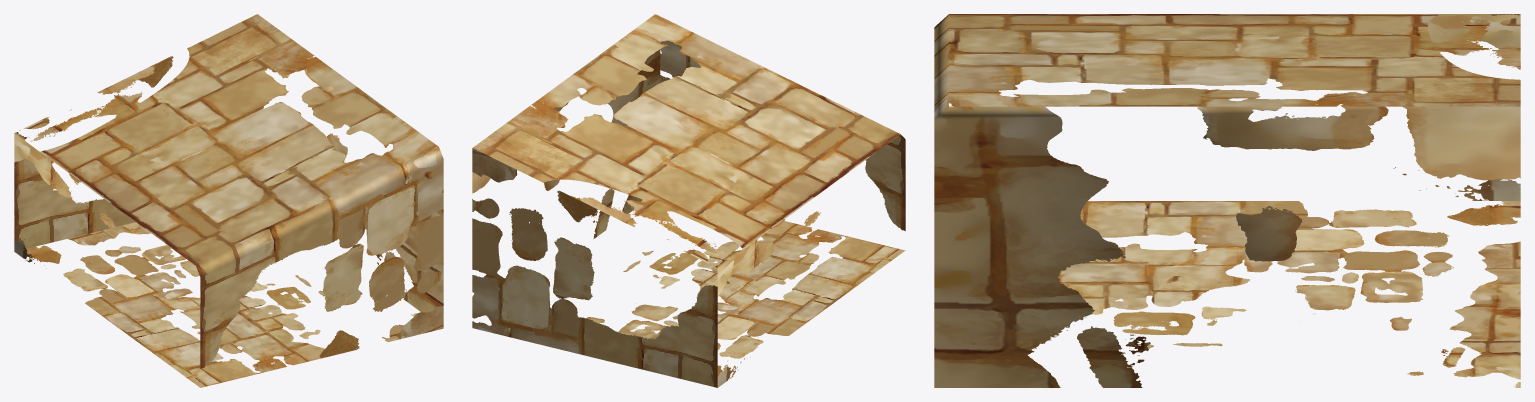
The model's file is Medium_Ground.FBX.
The picture shows the model from 3 angles, left to right: view 1: azimuth 30°, elevation 25°; view 2: azimuth 150°, elevation 25°; view 3: azimuth 270°, elevation 25°; orthographic projection. The views are drawn at different scales.
Visible parts, largest first — view 1: Sol_middle; view 2: Sol_middle; view 3: Sol_middle.
Boxes of the visible parts, left/top/right/bottom form: Sol_middle: left=14, top=14, right=443, bottom=387; Sol_middle: left=472, top=14, right=905, bottom=387; Sol_middle: left=934, top=14, right=1520, bottom=387.
Size of the model in its own units: 304 by 213 by 403.
